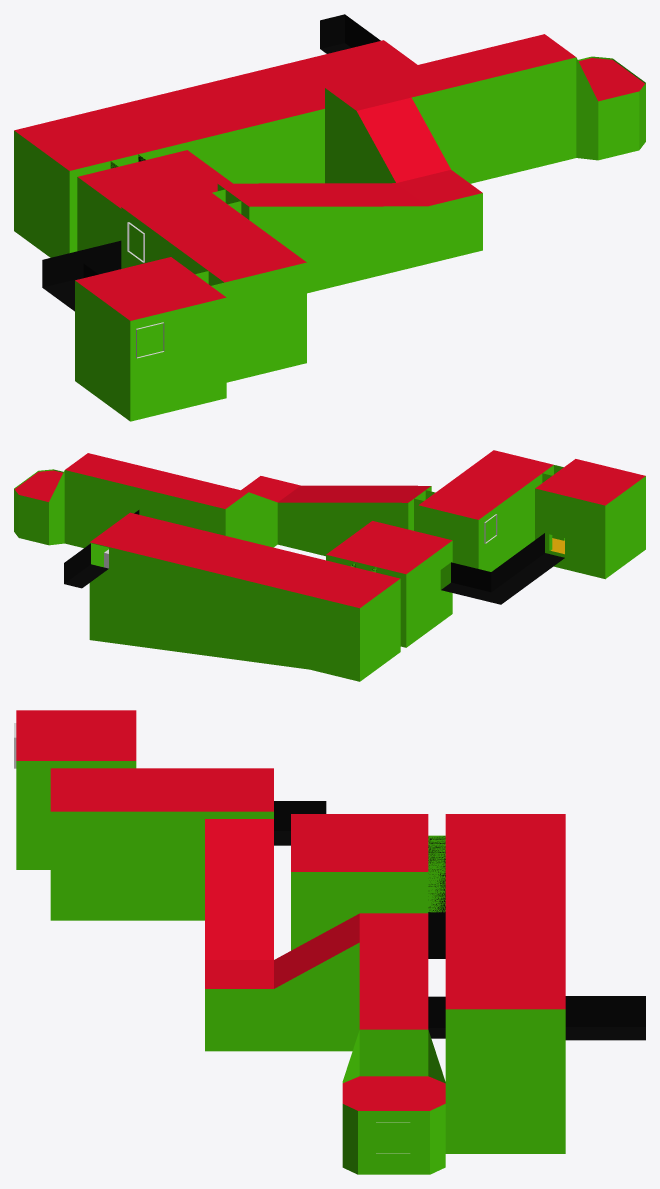
File: Floor 19.fbx
3 views of the same model, one above another, from view 1: azimuth 30°, elevation 25°; view 2: azimuth 150°, elevation 25°; view 3: azimuth 270°, elevation 25° (orthographic). The views are drawn at different scales.
Visible parts, largest first — view 1: Floor19Mesh; view 2: Floor19Mesh; view 3: Floor19Mesh.
Part boxes in pixels (x1=…): Floor19Mesh: x1=14, y1=14, x2=645, y2=421; Floor19Mesh: x1=14, y1=450, x2=645, y2=681; Floor19Mesh: x1=14, y1=710, x2=645, y2=1174.
Bounding box in the file's own units: 4905 × 1130 × 3680.
